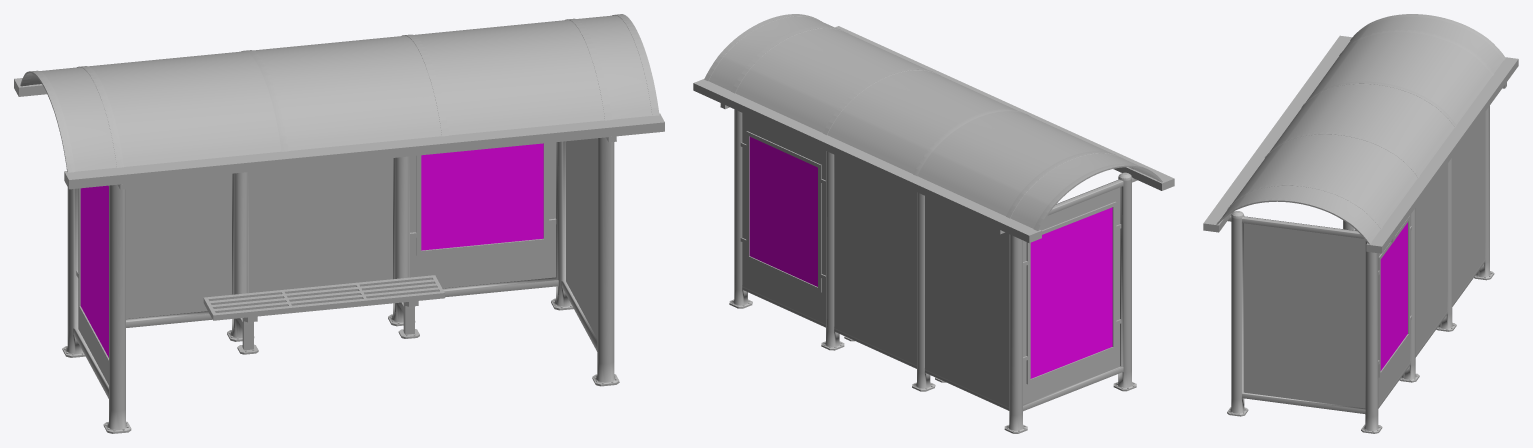
File: ParadaChida.fbx
3 renders of one model, left to right at view 1: azimuth 30°, elevation 25°; view 2: azimuth 150°, elevation 25°; view 3: azimuth 270°, elevation 25°, orthographic. The views are drawn at different scales.
Parts seen in each view (by area): view 1: BusStop; view 2: BusStop; view 3: BusStop.
Part boxes in pixels (x1,y1,x2,y2): BusStop: [14, 14, 664, 433]; BusStop: [693, 14, 1174, 433]; BusStop: [1203, 14, 1518, 433].
Size of the model in its own units: 626 by 326 by 395.
